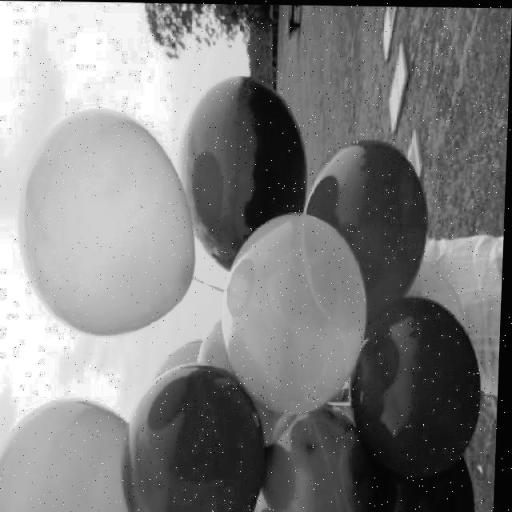balloon: (10, 99, 208, 339), (218, 205, 373, 421), (174, 66, 314, 274), (300, 134, 432, 336), (348, 292, 486, 478), (117, 357, 273, 512), (255, 393, 411, 512), (0, 391, 142, 512), (388, 441, 490, 512)
